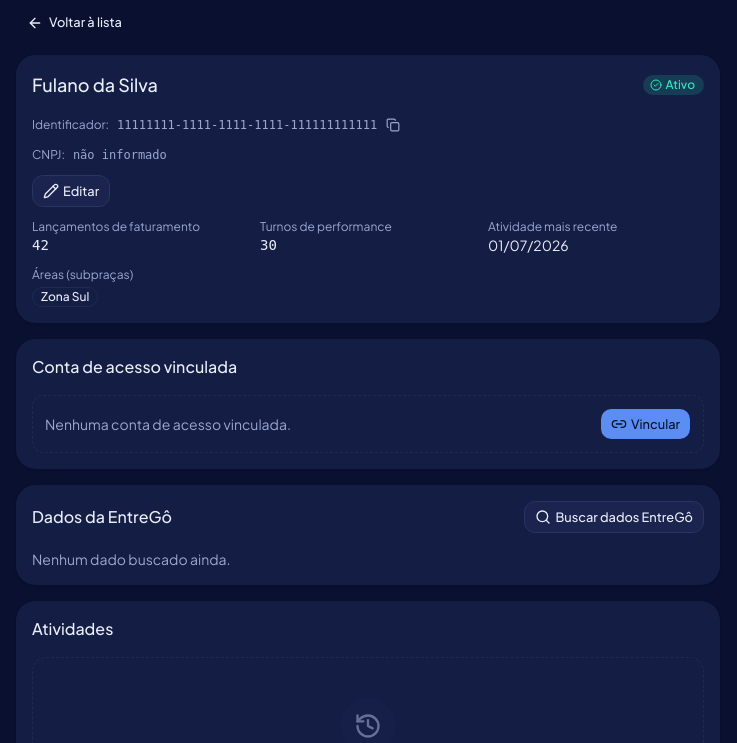
Test: e-mail do motorista (cadastro do hub) › sem conta vinculada não oferece o campo, e explica por quê
Click the button "Editar" at (71, 191), box [32,175,110,207]
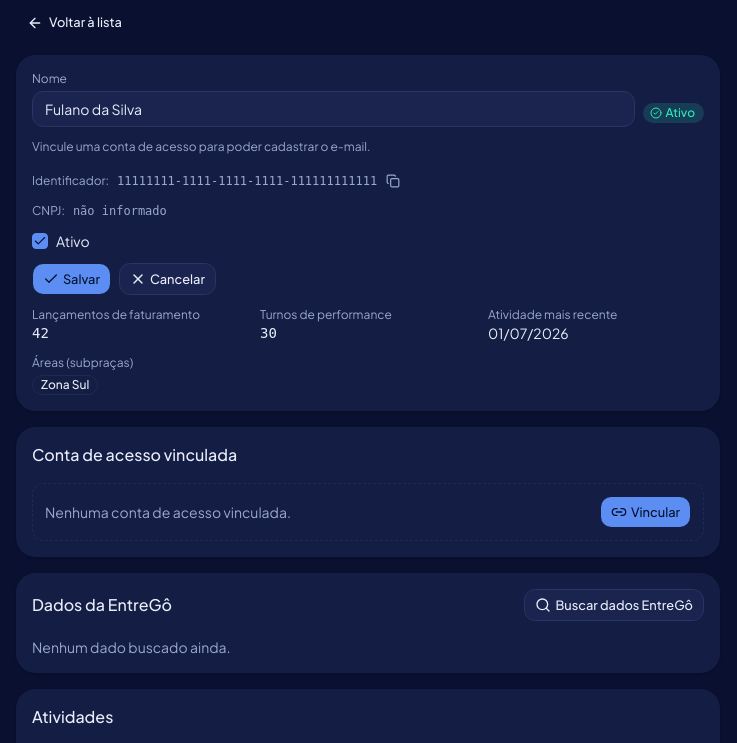
Now the text "Vincule uma conta de acesso para poder cadastrar o e-mail." is shown, box [32,139,370,154]
